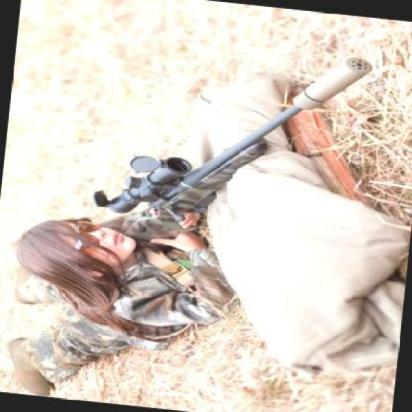Gun: (84, 32, 374, 273)
